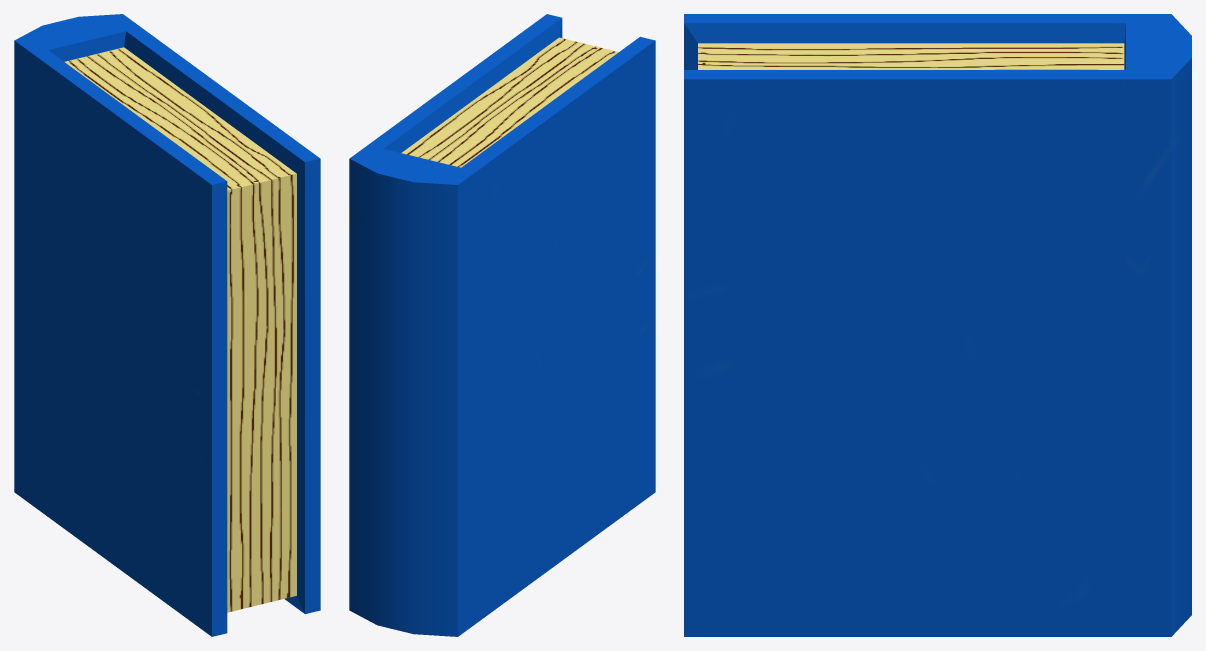
Rendered from BookBlue.fbx.
The picture shows the model from 3 angles, left to right: view 1: azimuth 30°, elevation 25°; view 2: azimuth 150°, elevation 25°; view 3: azimuth 270°, elevation 25°; orthographic projection. The views are drawn at different scales.
Parts seen in each view (by area): view 1: BookBlue; view 2: BookBlue; view 3: BookBlue.
Part boxes in pixels (<box>): BookBlue: <box>14,14,320,636</box>; BookBlue: <box>349,14,655,636</box>; BookBlue: <box>684,14,1191,636</box>.
Size of the model in its own units: 8.15 by 32.41 by 26.75.
1 material, 1 textured.
